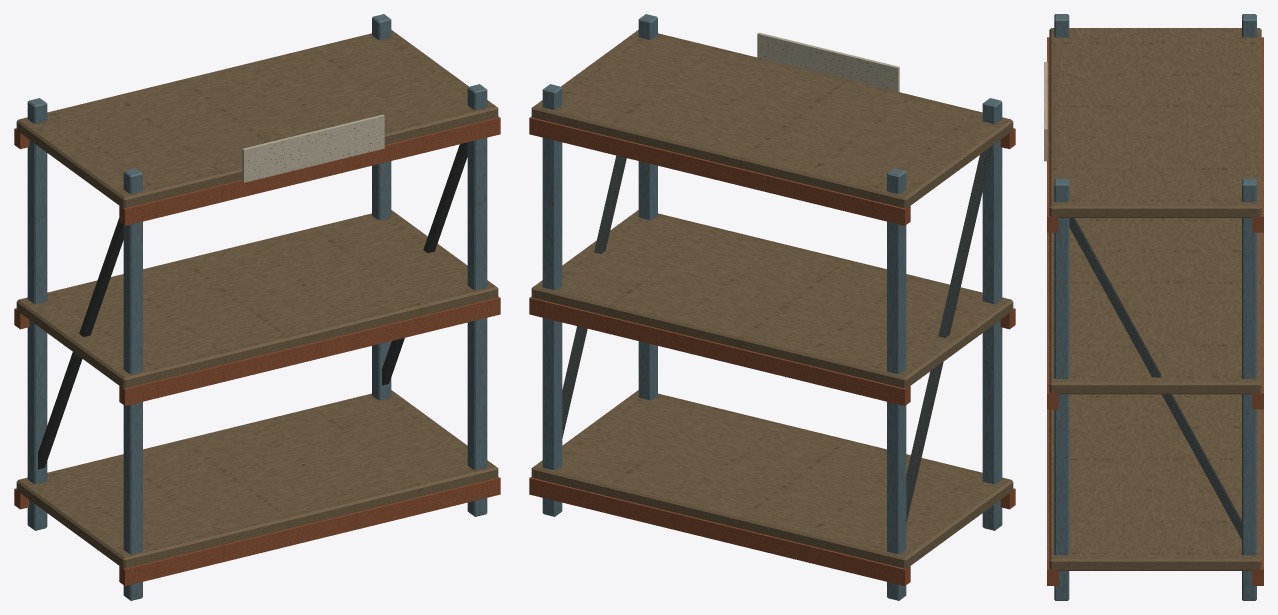
The model's file is StorageRack.fbx.
3 views of the same model, side by side, from view 1: azimuth 30°, elevation 25°; view 2: azimuth 150°, elevation 25°; view 3: azimuth 270°, elevation 25° (orthographic). The views are drawn at different scales.
Visible parts, largest first — view 1: StorageRack; view 2: StorageRack; view 3: StorageRack.
Part boxes in pixels (x1=…): StorageRack: x1=14, y1=14, x2=500, y2=600; StorageRack: x1=529, y1=14, x2=1015, y2=600; StorageRack: x1=1044, y1=14, x2=1263, y2=600.
Size of the model in its own units: 240 by 262 by 124.
Materials: 1 (1 with a texture image).
